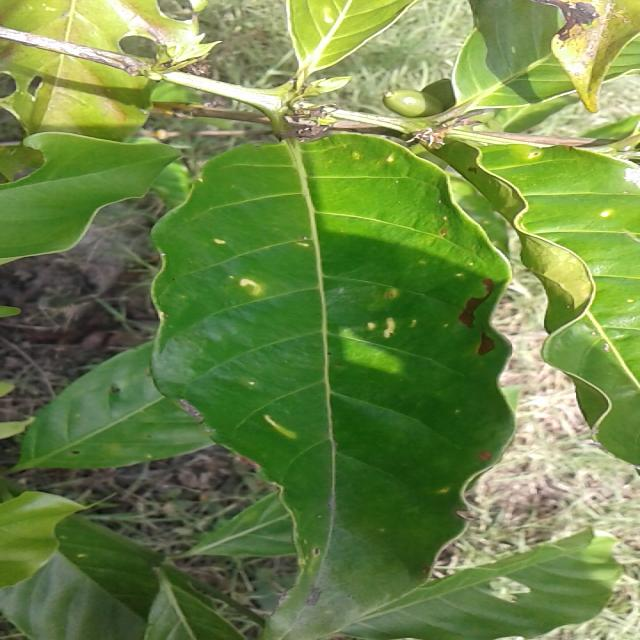Enfermedad-Roya: (150, 135, 515, 608)
